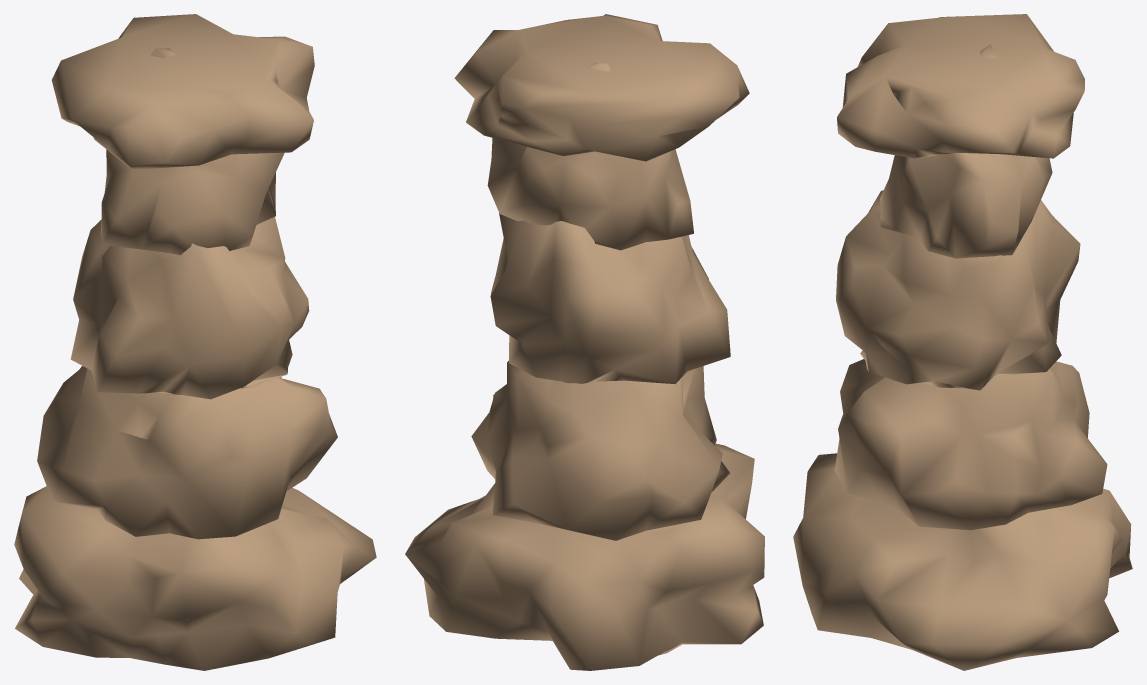
The model's file is sandstone-pillar-lod1.glb.
3 views of the same model, side by side, from view 1: azimuth 30°, elevation 25°; view 2: azimuth 150°, elevation 25°; view 3: azimuth 270°, elevation 25° (orthographic).
Visible parts, largest first — view 1: sandstone-pillar.001; view 2: sandstone-pillar.001; view 3: sandstone-pillar.001.
Part boxes in pixels (box(x1,y1,x2,y2)): sandstone-pillar.001: box(14, 14, 376, 670); sandstone-pillar.001: box(405, 14, 764, 670); sandstone-pillar.001: box(793, 14, 1132, 670).
Size of the model in its own units: 6.45 by 10.35 by 5.86.
